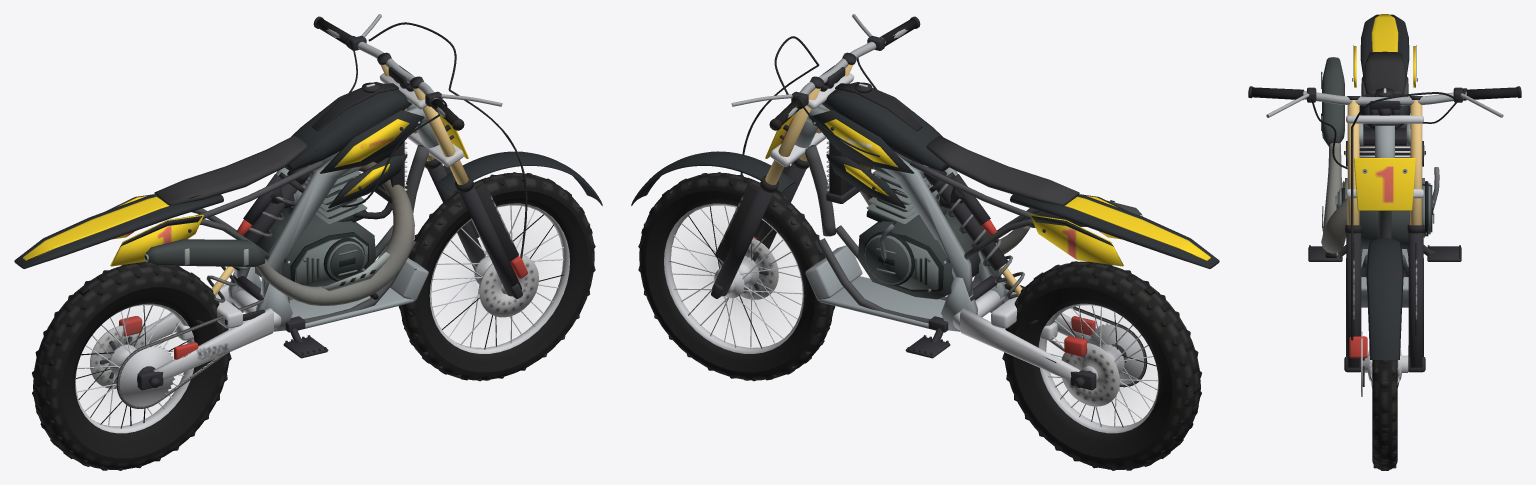
The model's file is bike-pro.glb.
The picture shows the model from 3 angles, left to right: view 1: azimuth 30°, elevation 25°; view 2: azimuth 150°, elevation 25°; view 3: azimuth 270°, elevation 25°; orthographic projection. The views are drawn at different scales.
Visible parts, largest first — view 1: wheel_rear, bodywork, wheel_front, frame, exhaust, engine, fork_lower, swingarm, handlebar, fork_upper, sprocket_rear, shock_body (+7 smaller); view 2: wheel_rear, bodywork, wheel_front, frame, engine, fork_lower, swingarm, handlebar, wheel_front_blur, fork_upper, wheel_front_spokes, shock_body (+6 smaller); view 3: fork_lower, fork_upper, bodywork, handlebar, exhaust, wheel_front, frame, engine, pegs, brake_hose.
Part boxes in pixels (bbox=[...]): wheel_rear: bbox=[32, 261, 231, 470]; bodywork: bbox=[14, 82, 424, 268]; wheel_front: bbox=[398, 172, 595, 381]; frame: bbox=[191, 104, 438, 332]; exhaust: bbox=[144, 161, 414, 305]; engine: bbox=[255, 150, 378, 299]; fork_lower: bbox=[425, 151, 602, 298]; swingarm: bbox=[119, 281, 281, 390]; handlebar: bbox=[313, 14, 502, 207]; fork_upper: bbox=[377, 52, 468, 184]; sprocket_rear: bbox=[119, 345, 174, 406]; shock_body: bbox=[232, 167, 310, 271]; wheel_rear: bbox=[1002, 261, 1201, 470]; bodywork: bbox=[809, 82, 1219, 268]; wheel_front: bbox=[638, 172, 835, 381]; frame: bbox=[795, 104, 1042, 332]; engine: bbox=[858, 151, 980, 299]; fork_lower: bbox=[631, 151, 808, 298]; swingarm: bbox=[952, 282, 1096, 390]; handlebar: bbox=[731, 14, 922, 235]; wheel_front_blur: bbox=[695, 232, 777, 321]; fork_upper: bbox=[765, 52, 856, 184]; wheel_front_spokes: bbox=[668, 205, 802, 348]; shock_body: bbox=[923, 167, 1007, 271]; fork_lower: bbox=[1344, 225, 1425, 372]; fork_upper: bbox=[1346, 96, 1423, 225]; bodywork: bbox=[1344, 14, 1425, 166]; handlebar: bbox=[1248, 86, 1521, 185]; exhaust: bbox=[1321, 57, 1360, 253]; wheel_front: bbox=[1361, 331, 1408, 470]; frame: bbox=[1359, 77, 1410, 307]; engine: bbox=[1325, 123, 1439, 257]; pegs: bbox=[1308, 245, 1461, 261]; brake_hose: bbox=[1351, 127, 1353, 340].
Size of the model in its own units: 2.06 by 1.2 by 0.875.
Materials: 4 (4 with a texture image).
